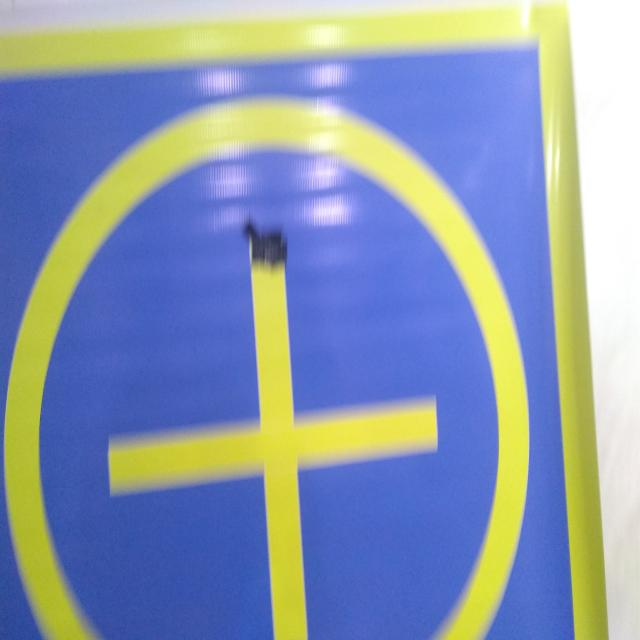circulo-com-sinal-positivo: (3, 28, 594, 640)
